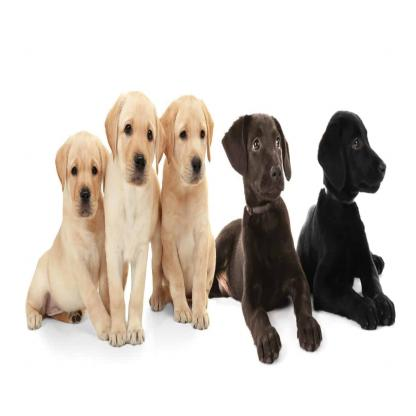dog: (40, 74, 190, 416)
